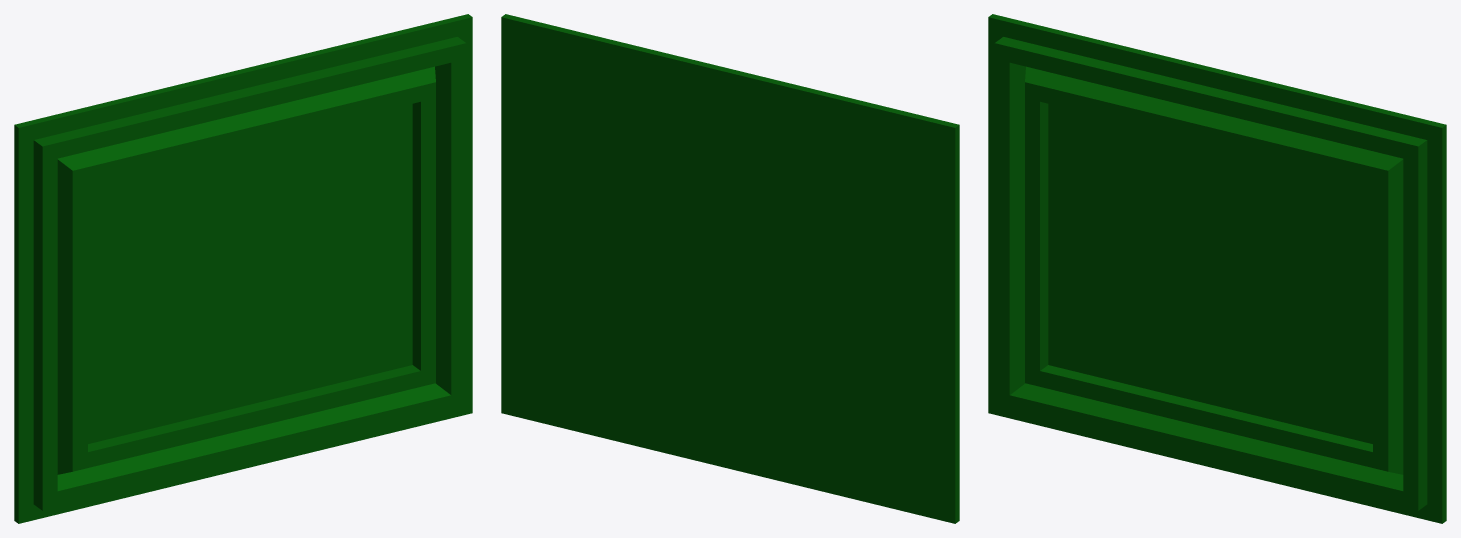
The model's file is Frame1.FBX.
3 renders of one model, left to right at view 1: azimuth 30°, elevation 25°; view 2: azimuth 150°, elevation 25°; view 3: azimuth 330°, elevation 25°, orthographic.
Visible parts, largest first — view 1: Box011; view 2: Box011; view 3: Box011.
Boxes of the visible parts, x1,y1,x2,y2 form: Box011: (14, 14, 472, 523); Box011: (501, 14, 959, 523); Box011: (988, 14, 1446, 523).
Size of the model in its own units: 2.56 by 2.13 by 0.1279.
